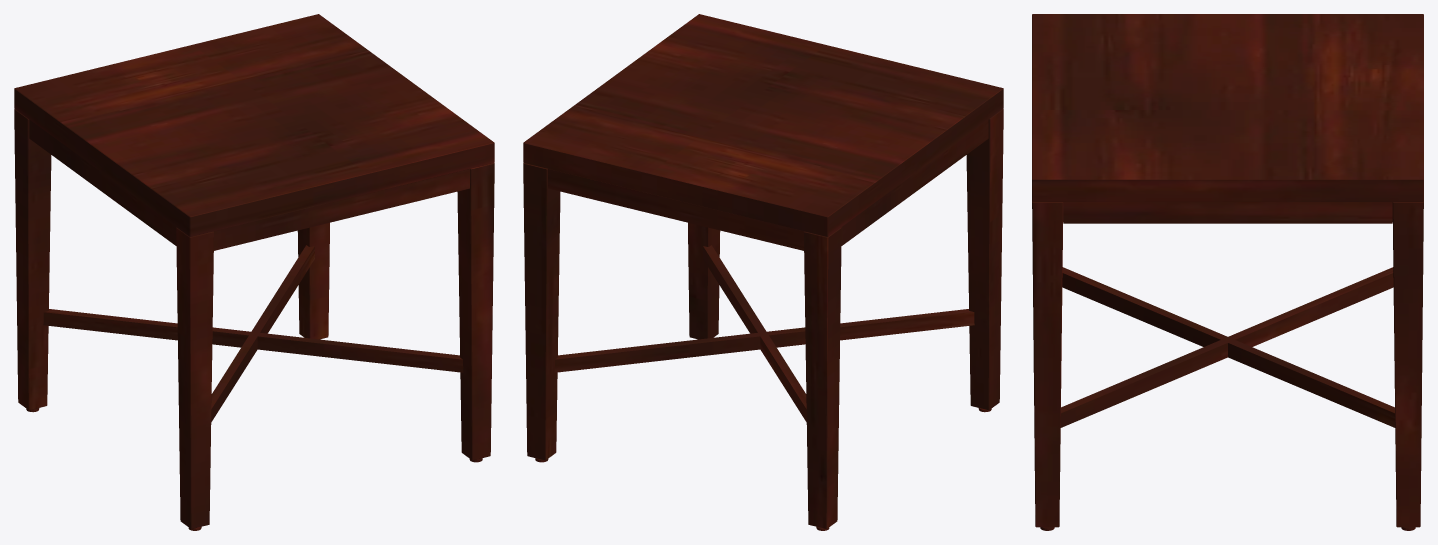
File: sh-scopia-bar-table.glb
The picture shows the model from 3 angles, left to right: view 1: azimuth 30°, elevation 25°; view 2: azimuth 150°, elevation 25°; view 3: azimuth 270°, elevation 25°; orthographic projection. The views are drawn at different scales.
Visible parts, largest first — view 1: table_Cube; view 2: table_Cube; view 3: table_Cube.
Boxes of the visible parts, x1,y1,x2,y2 form: table_Cube: (14, 14, 494, 530); table_Cube: (523, 14, 1003, 530); table_Cube: (1032, 14, 1423, 530).
Size of the model in its own units: 1 by 1 by 1.
Materials: 1 (1 with a texture image).
